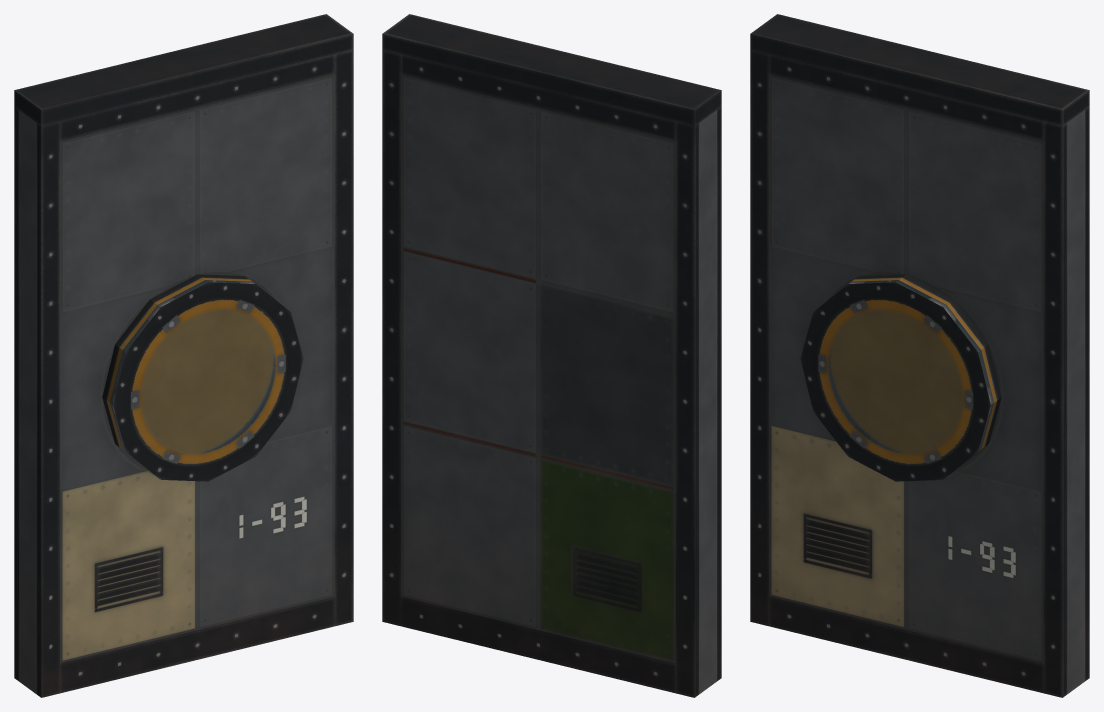
The model's file is hull_wall_port_c.glb.
The picture shows the model from 3 angles, left to right: view 1: azimuth 30°, elevation 25°; view 2: azimuth 150°, elevation 25°; view 3: azimuth 330°, elevation 25°; orthographic projection.
Parts seen in each view (by area): view 1: hull_wall_port_c; view 2: hull_wall_port_c; view 3: hull_wall_port_c.
Boxes of the visible parts, bbox=[...] form: hull_wall_port_c: bbox=[14, 14, 353, 697]; hull_wall_port_c: bbox=[382, 14, 721, 697]; hull_wall_port_c: bbox=[750, 14, 1089, 697].
Size of the model in its own units: 2 by 3.6 by 0.42.
Materials: 1 (1 with a texture image).
